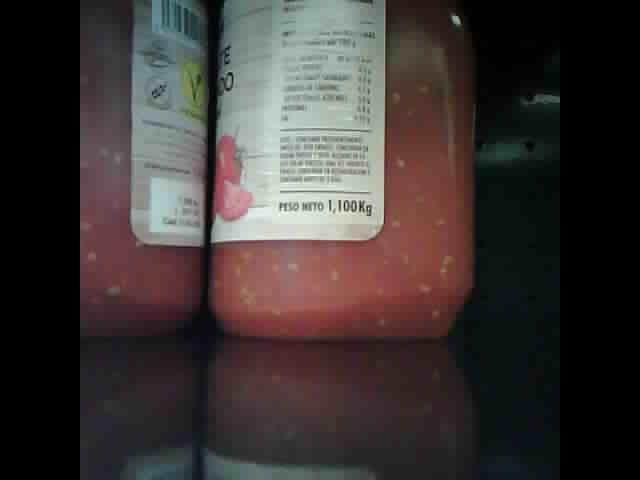tomate: (207, 3, 474, 342), (83, 4, 212, 336)
